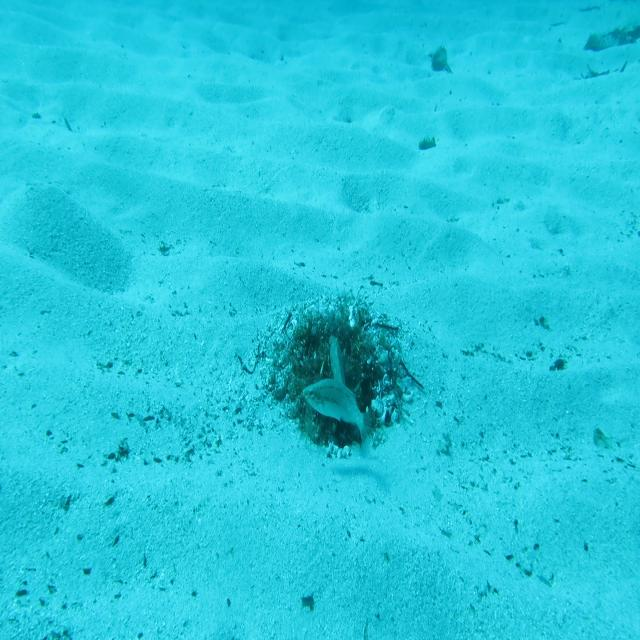FAN: (328, 334, 347, 395)
core_nest: (315, 330, 357, 363)
female: (301, 377, 374, 453)
nest: (262, 287, 416, 466)
vegetation: (582, 23, 640, 55), (428, 43, 452, 76), (416, 132, 438, 151)
